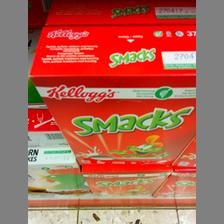Cerealien: (29, 25, 194, 166)
